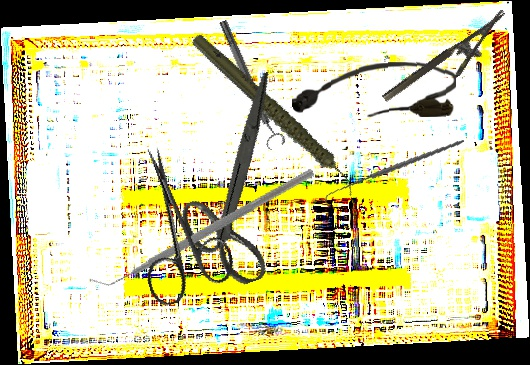Cannula: (291, 60, 457, 122)
Chopper: (86, 99, 317, 353)
Fixation Ring: (213, 16, 288, 152)
Handpiece: (188, 7, 359, 224)
Hook Surgical: (324, 120, 465, 223)
Iris Scissors: (144, 71, 334, 298), (108, 134, 241, 310)
Needle Holder: (380, 9, 520, 119)
